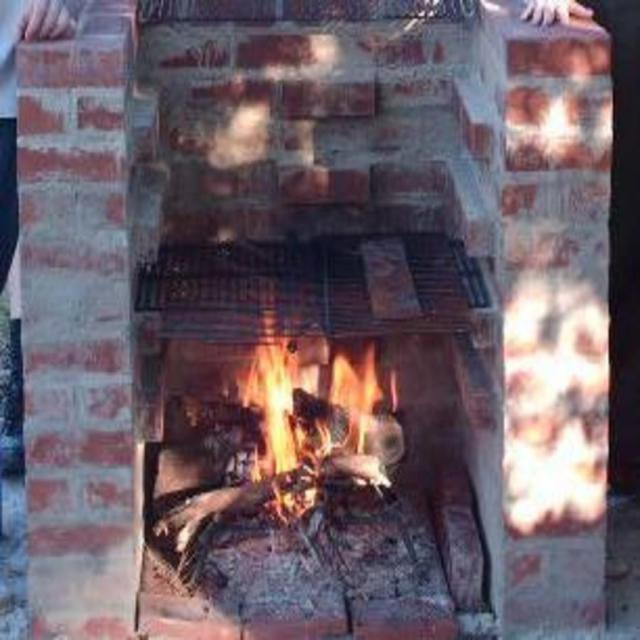Fire: (236, 339, 396, 529)
